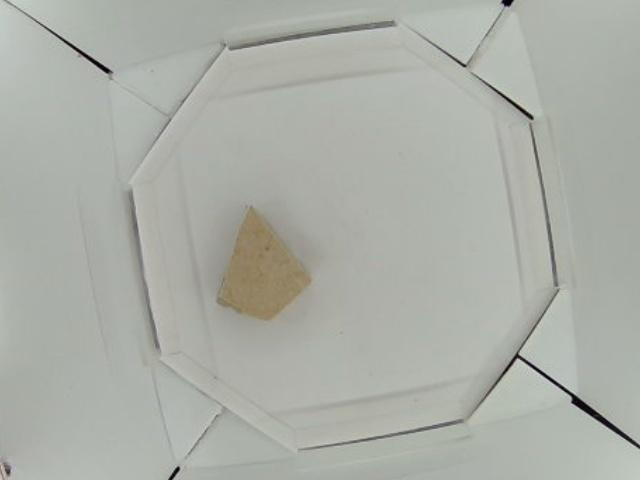China: (214, 208, 309, 320)
